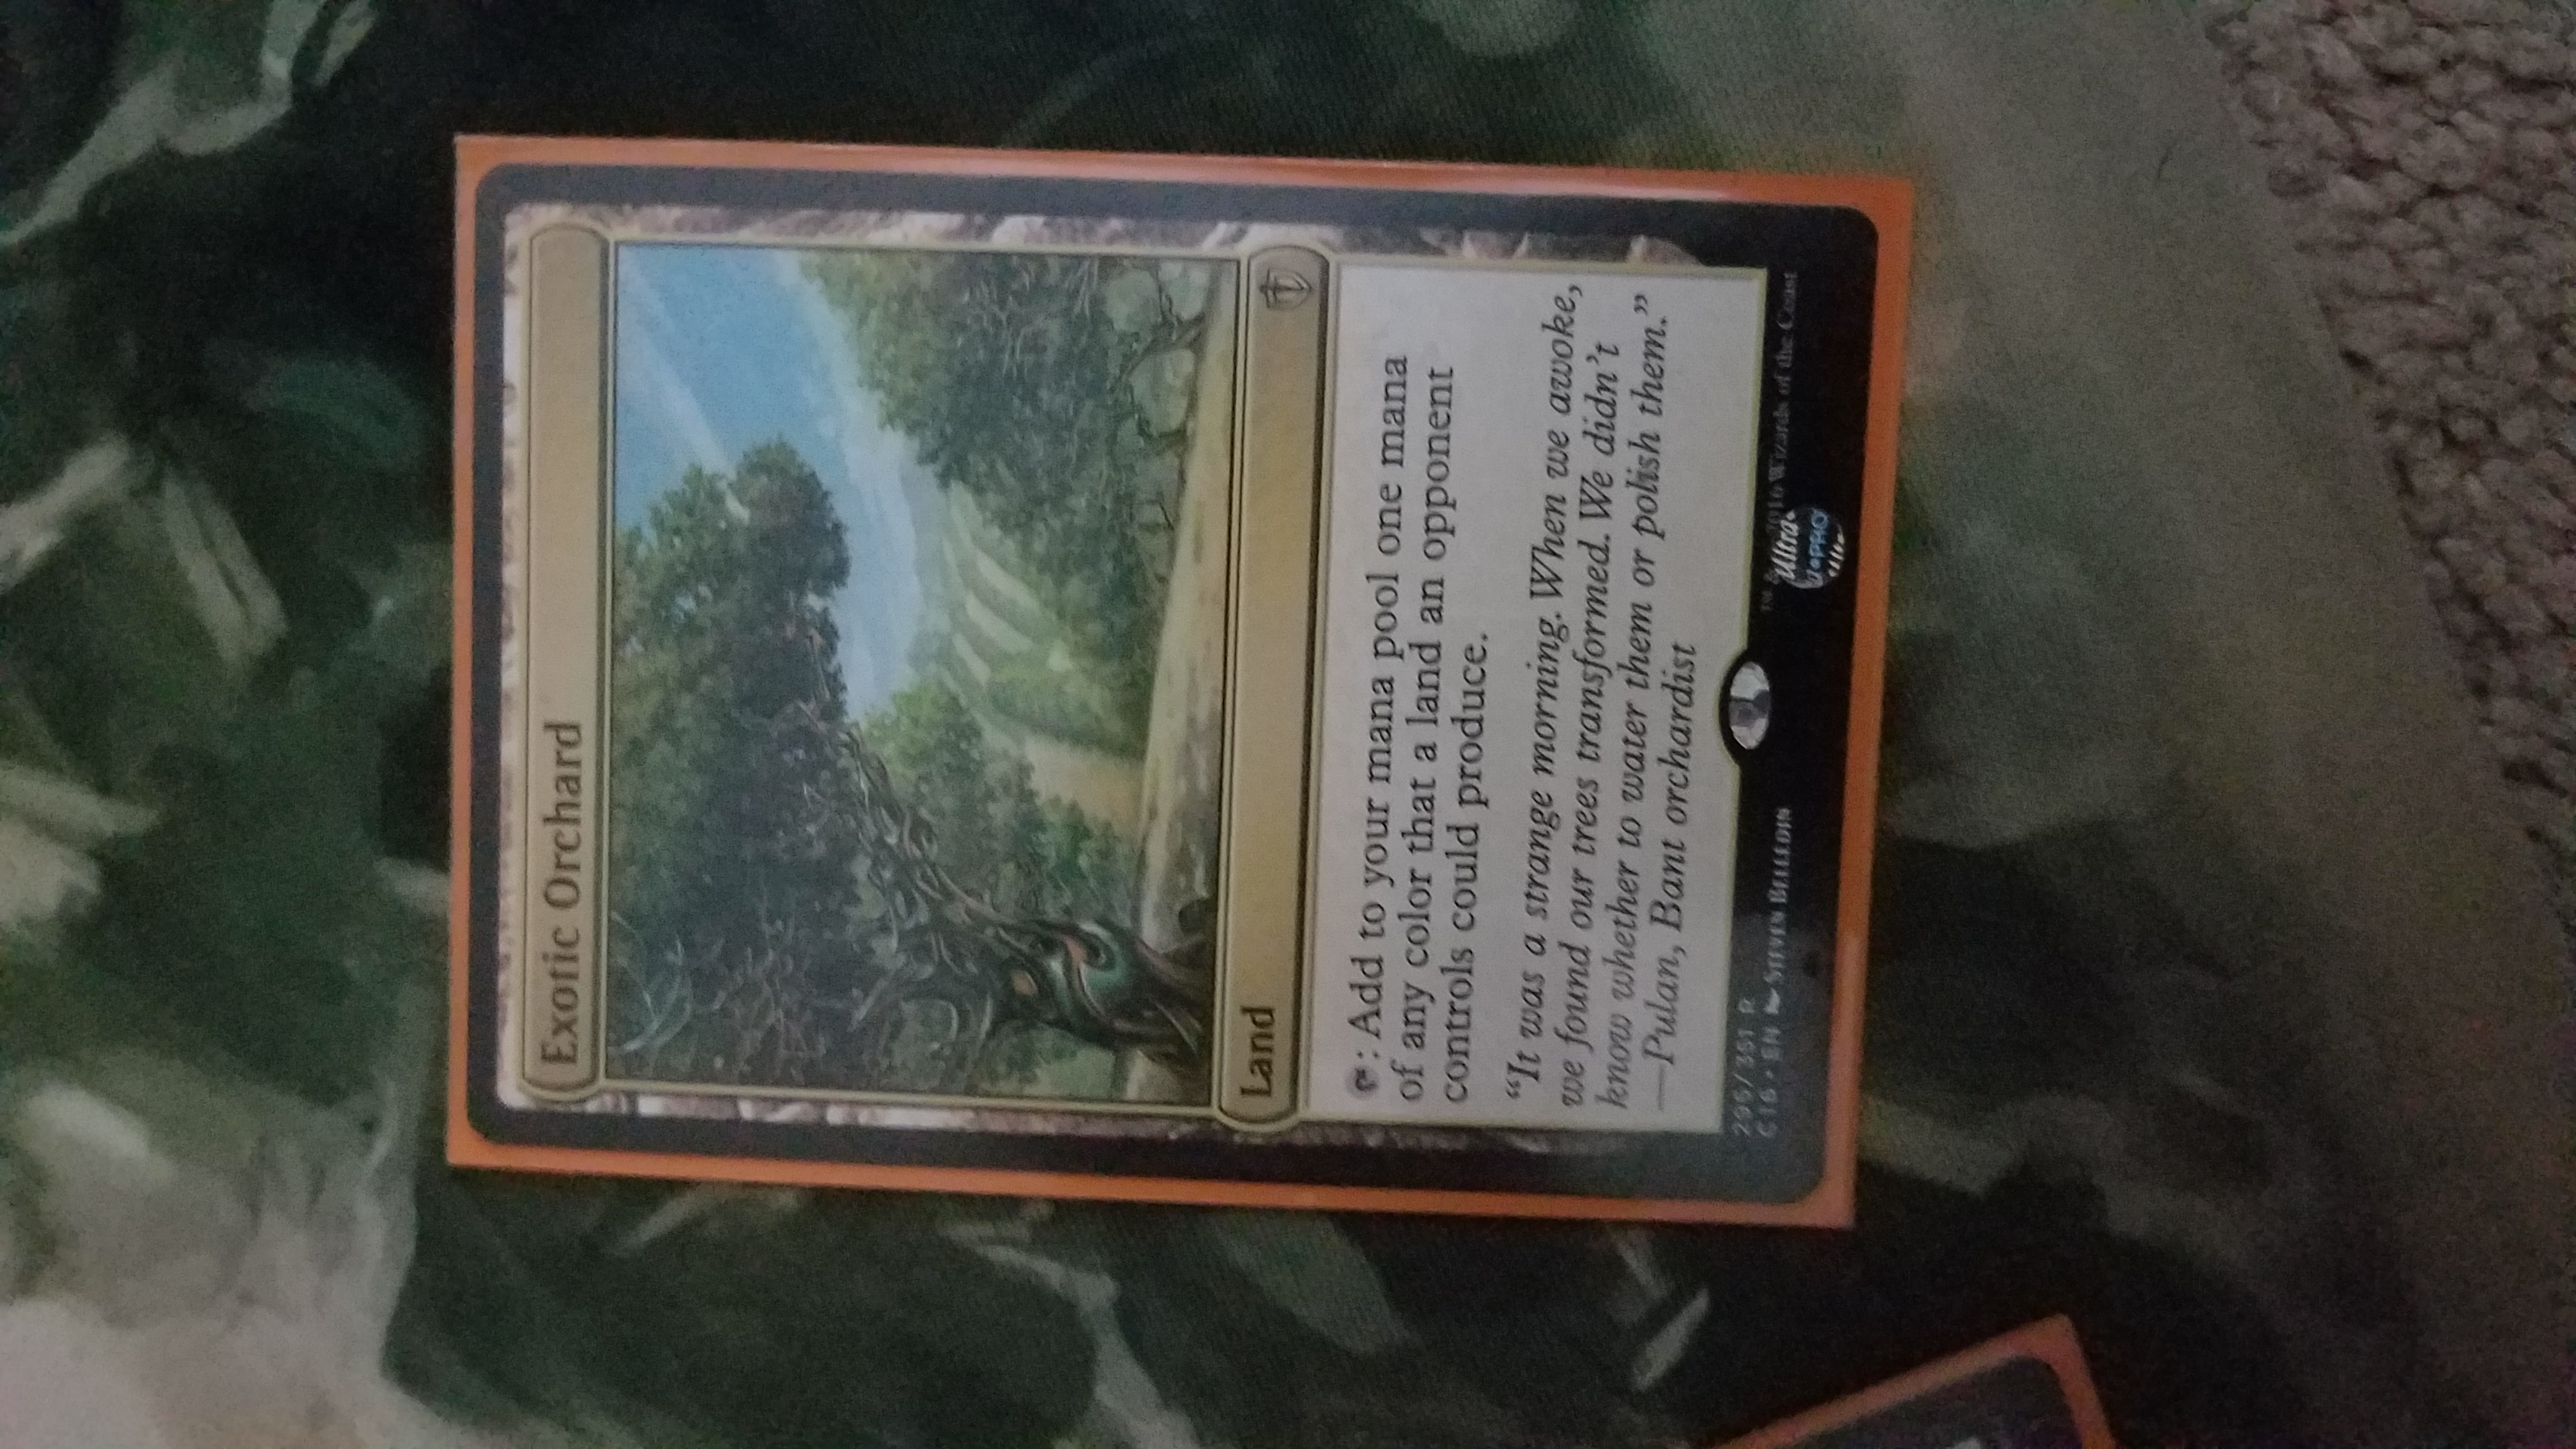Card: (456, 138, 1897, 1244)
